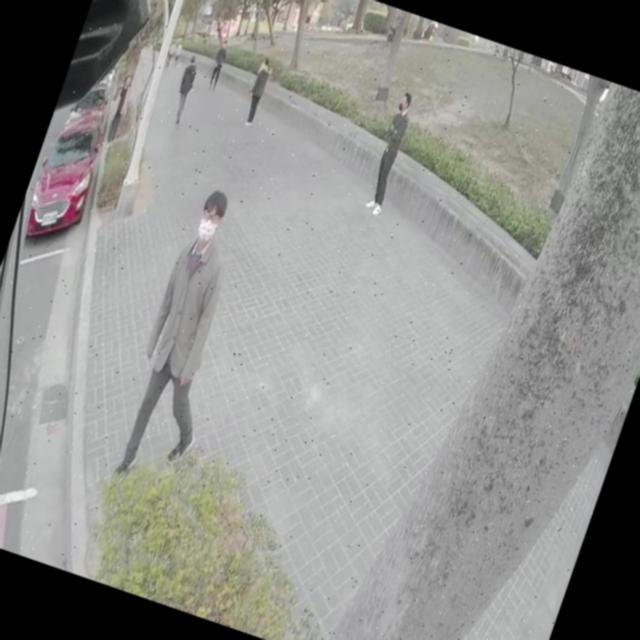person: (99, 188, 270, 498), (362, 92, 419, 214), (103, 74, 137, 146), (168, 56, 204, 124), (240, 57, 275, 126), (206, 38, 232, 88)
